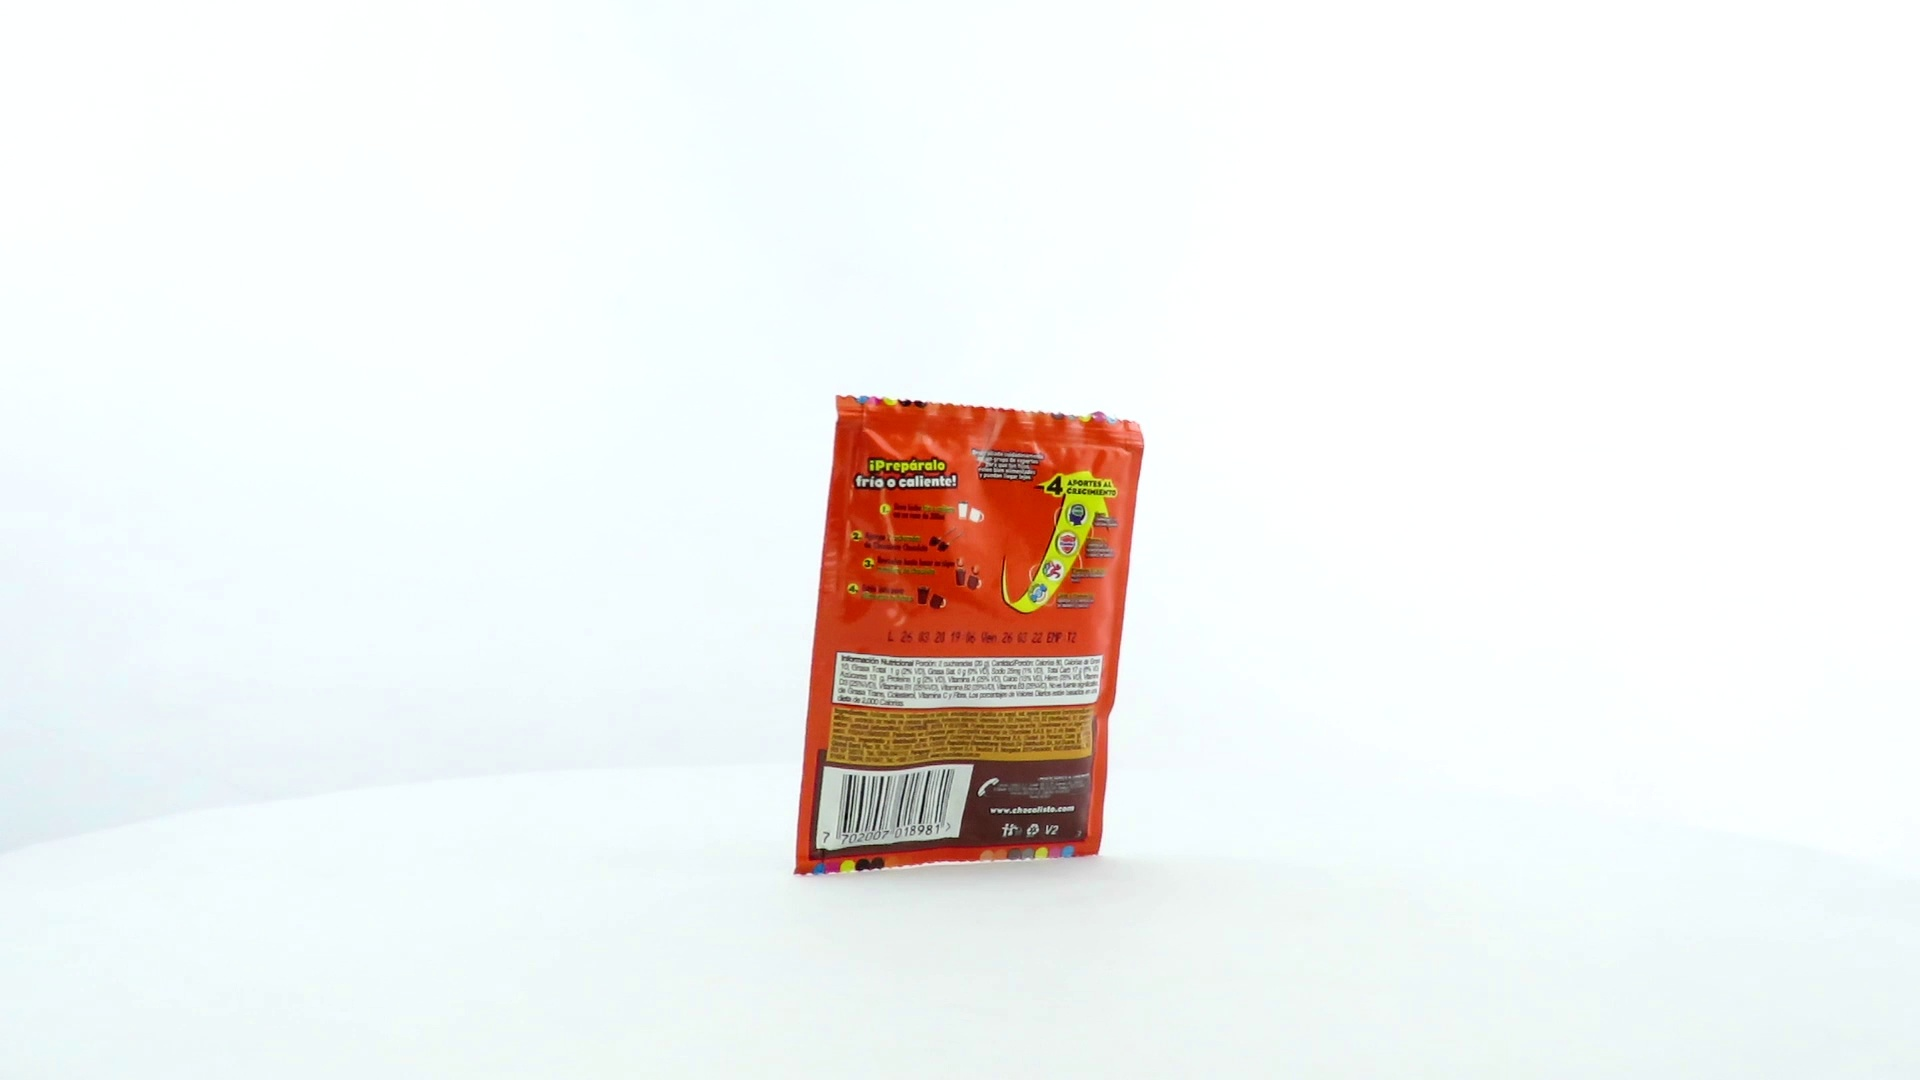COL0170103SOB02000: (789, 390, 1151, 882)
